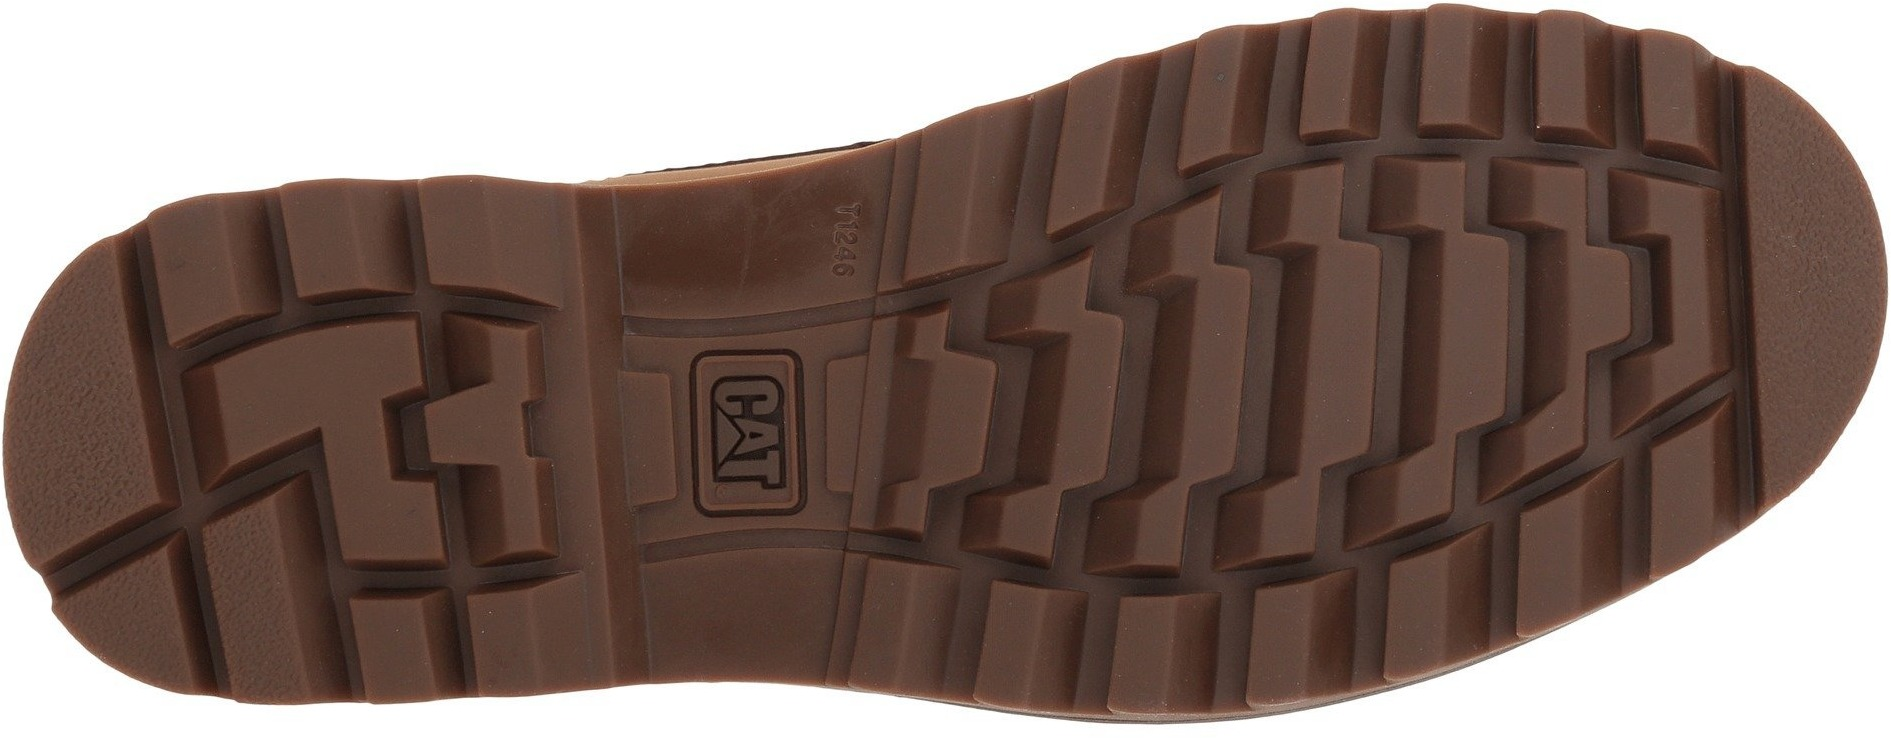other: (652, 195, 772, 327), (691, 567, 800, 672)
quad: (14, 465, 336, 734), (1222, 445, 1500, 725), (1506, 357, 1741, 681), (1020, 18, 1251, 299), (837, 484, 1099, 731), (329, 174, 543, 409), (1516, 7, 1722, 245), (1284, 14, 1495, 232), (140, 203, 317, 408), (1298, 264, 1520, 426), (1035, 336, 1233, 475)
text: (699, 370, 804, 493), (816, 191, 888, 286)
triangle: (14, 465, 336, 734)
